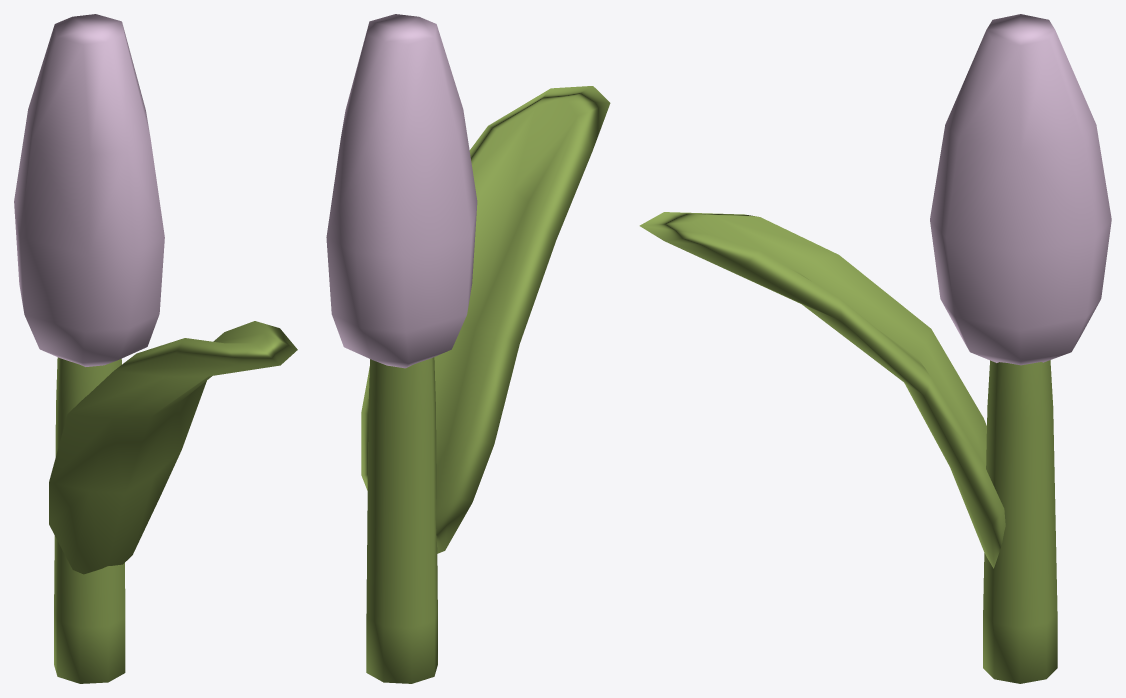
Rendered from Flower_M.fbx.
3 renders of one model, left to right at view 1: azimuth 30°, elevation 25°; view 2: azimuth 150°, elevation 25°; view 3: azimuth 270°, elevation 25°, orthographic.
Visible parts, largest first — view 1: polySurface279; view 2: polySurface279; view 3: polySurface279.
Boxes of the visible parts, x1,y1,x2,y2 form: polySurface279: (14, 14, 297, 683); polySurface279: (326, 14, 610, 683); polySurface279: (639, 14, 1111, 683).
Size of the model in its own units: 2.45 by 10.72 by 7.19.
